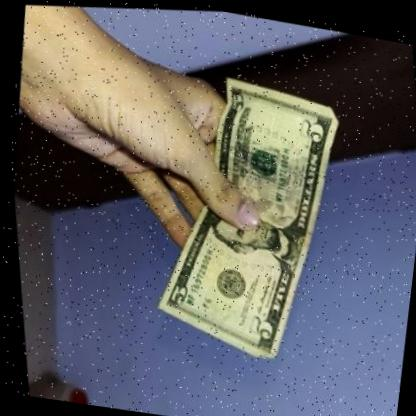five-front: (101, 44, 390, 386)
